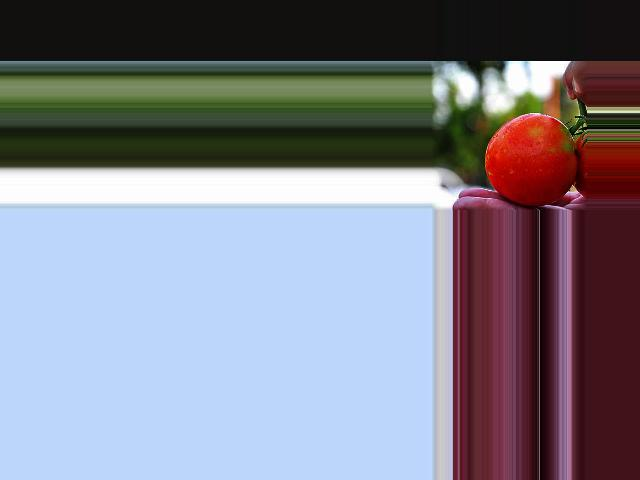tomato: (485, 113, 576, 206)
